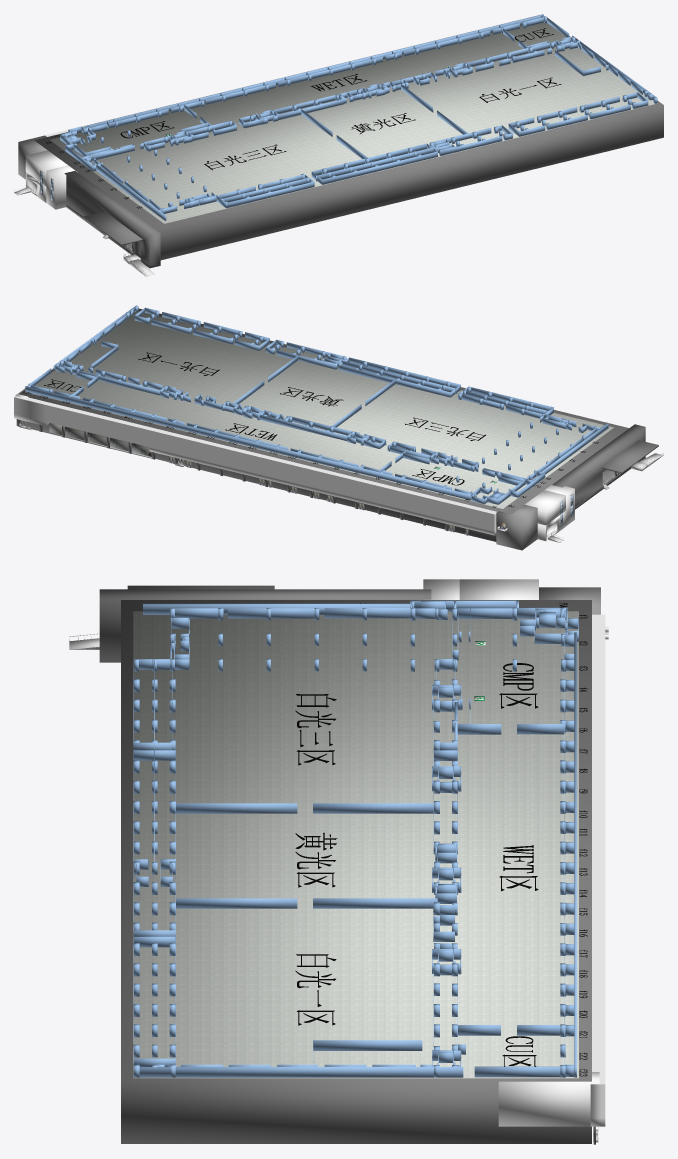
File: 4f_mini.gltf
3 renders of one model, top to bottom at view 1: azimuth 30°, elevation 25°; view 2: azimuth 150°, elevation 25°; view 3: azimuth 270°, elevation 25°, orthographic. The views are drawn at different scales.
Parts seen in each view (by area): view 1: fab_n2_dimian_3f, fab_n2_waiguan_3_78, fab_n2_waiguan_3_214, fab_n2_qiang_3f_21, fab_n2_waiguan_3_59, fab_n2_waiguan_3_71, fab_n2_waiguan_3_195, fab_n2_qiang_3f_273, fab_n2_qiang_3f_271, fab_n2_waiguan_3_80, fab_n2_qiang_3f_272, fab_n2_waiguan_3_77 (+6 smaller); view 2: fab_n2_dimian_3f, fab_n2_waiguan_3_80, fab_n2_waiguan_3_78, fab_n2_qiang_3f_21, fab_n2_waiguan_3_214, fab_n2_waiguan_3_77, fab_n2_waiguan_3_195, fab_n2_waiguan_3_59, fab_n2_qiang_3f_272, fab_n2_qiang_3f_271, fab_n2_qiang_3f_185, fab_n2_qiang_3f_273 (+6 smaller); view 3: fab_n2_dimian_3f, fab_n2_waiguan_3_78, fab_n2_waiguan_3_80, fab_n2_waiguan_3_214, fab_n2_waiguan_3_79, fab_n2_qiang_3f_373, fab_n2_qiang_3f_239, fab_n2_waiguan_3_195, fab_n2_qiang_3f_400, fab_n2_qiang_3f_374, fab_n2_qiang_3f_375, fab_n2_qiang_3f_21 (+6 smaller).
Part boxes in pixels (x1,y1,x2,y2): fab_n2_dimian_3f: (50,22,657,223); fab_n2_waiguan_3_78: (34,36,663,260); fab_n2_waiguan_3_214: (64,171,160,268); fab_n2_qiang_3f_21: (83,14,543,128); fab_n2_waiguan_3_59: (83,211,142,245); fab_n2_waiguan_3_71: (46,165,77,209); fab_n2_waiguan_3_195: (25,150,67,186); fab_n2_qiang_3f_273: (322,151,437,184); fab_n2_qiang_3f_271: (317,147,435,179); fab_n2_waiguan_3_80: (44,14,540,136); fab_n2_qiang_3f_272: (312,143,426,175); fab_n2_waiguan_3_77: (18,135,47,179); fab_n2_dimian_3f: (25,311,613,508); fab_n2_waiguan_3_80: (14,396,496,535); fab_n2_waiguan_3_78: (19,308,628,541); fab_n2_qiang_3f_21: (25,386,471,500); fab_n2_waiguan_3_214: (552,424,645,509); fab_n2_waiguan_3_77: (496,504,537,550); fab_n2_waiguan_3_195: (525,490,565,525); fab_n2_waiguan_3_59: (601,440,658,473); fab_n2_qiang_3f_272: (338,365,450,397); fab_n2_qiang_3f_271: (341,360,455,392); fab_n2_qiang_3f_185: (259,415,347,440); fab_n2_qiang_3f_273: (349,357,460,388); fab_n2_dimian_3f: (133,611,578,1078); fab_n2_waiguan_3_78: (121,600,591,1143); fab_n2_waiguan_3_80: (590,614,605,1126); fab_n2_waiguan_3_214: (99,589,431,662); fab_n2_waiguan_3_79: (498,1072,599,1126); fab_n2_qiang_3f_373: (139,1067,463,1077); fab_n2_qiang_3f_239: (143,603,410,614); fab_n2_waiguan_3_195: (459,579,538,599); fab_n2_qiang_3f_400: (313,898,437,908); fab_n2_qiang_3f_374: (176,803,297,813); fab_n2_qiang_3f_375: (176,898,297,908); fab_n2_qiang_3f_21: (574,632,576,1077).
Bounding box in the file's own units: 349 × 23.57 × 154.
Materials: 42 (31 with a texture image).
